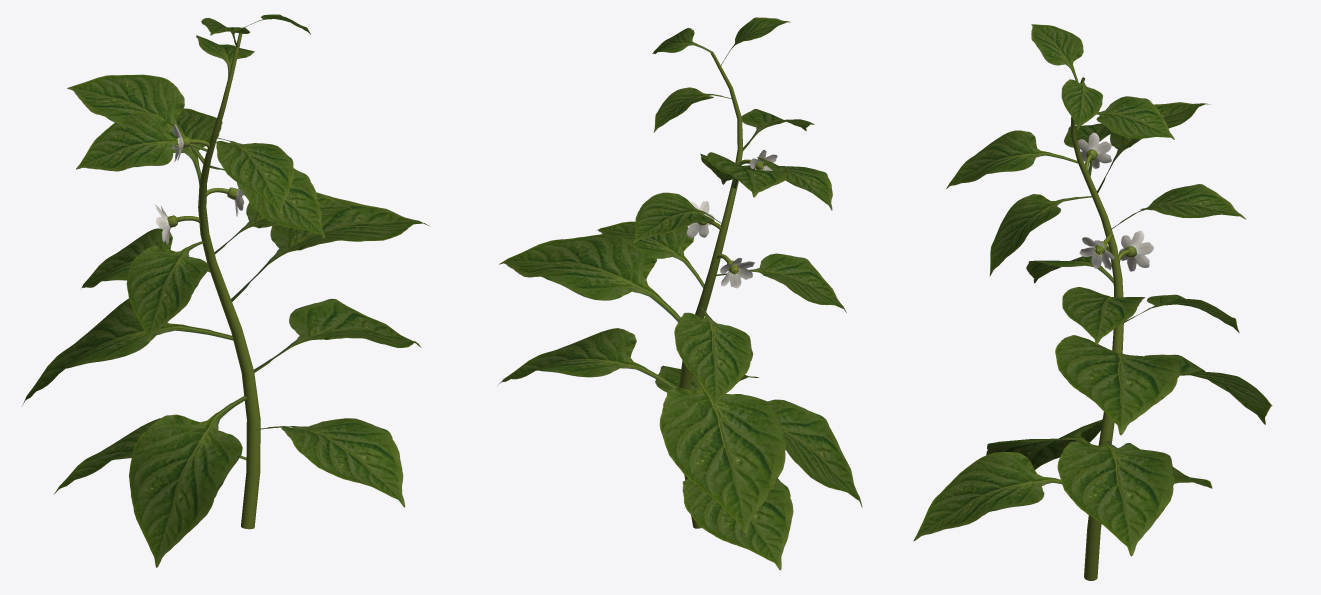
Rendered from bellpepper_step6-transformed.glb.
The picture shows the model from 3 angles, left to right: view 1: azimuth 30°, elevation 25°; view 2: azimuth 150°, elevation 25°; view 3: azimuth 270°, elevation 25°; orthographic projection. The views are drawn at different scales.
Parts seen in each view (by area): view 1: result5; view 2: result5; view 3: result5.
Boxes of the visible parts, box(x1,y1,x2,y2) form: result5: box(22, 14, 428, 567); result5: box(497, 17, 862, 570); result5: box(913, 24, 1272, 580).
Bounding box in the file's own units: 9.67 × 13.15 × 9.22.
4 materials, 4 textured.
